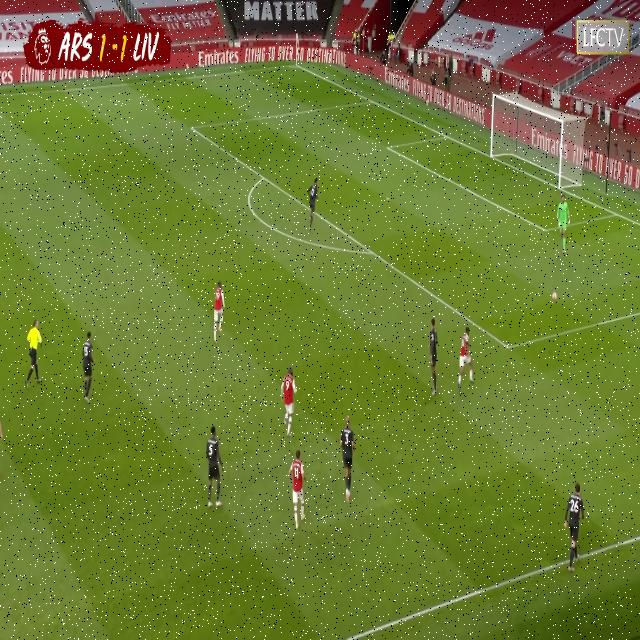Ball: (550, 285, 558, 308)
TEAM 1: (288, 450, 306, 531), (457, 328, 474, 394), (281, 368, 297, 438), (558, 193, 572, 254), (215, 281, 227, 346)
TEAM 2: (564, 485, 586, 575), (205, 424, 226, 510), (339, 414, 357, 504), (426, 319, 439, 401), (80, 333, 94, 403), (307, 180, 318, 222)
